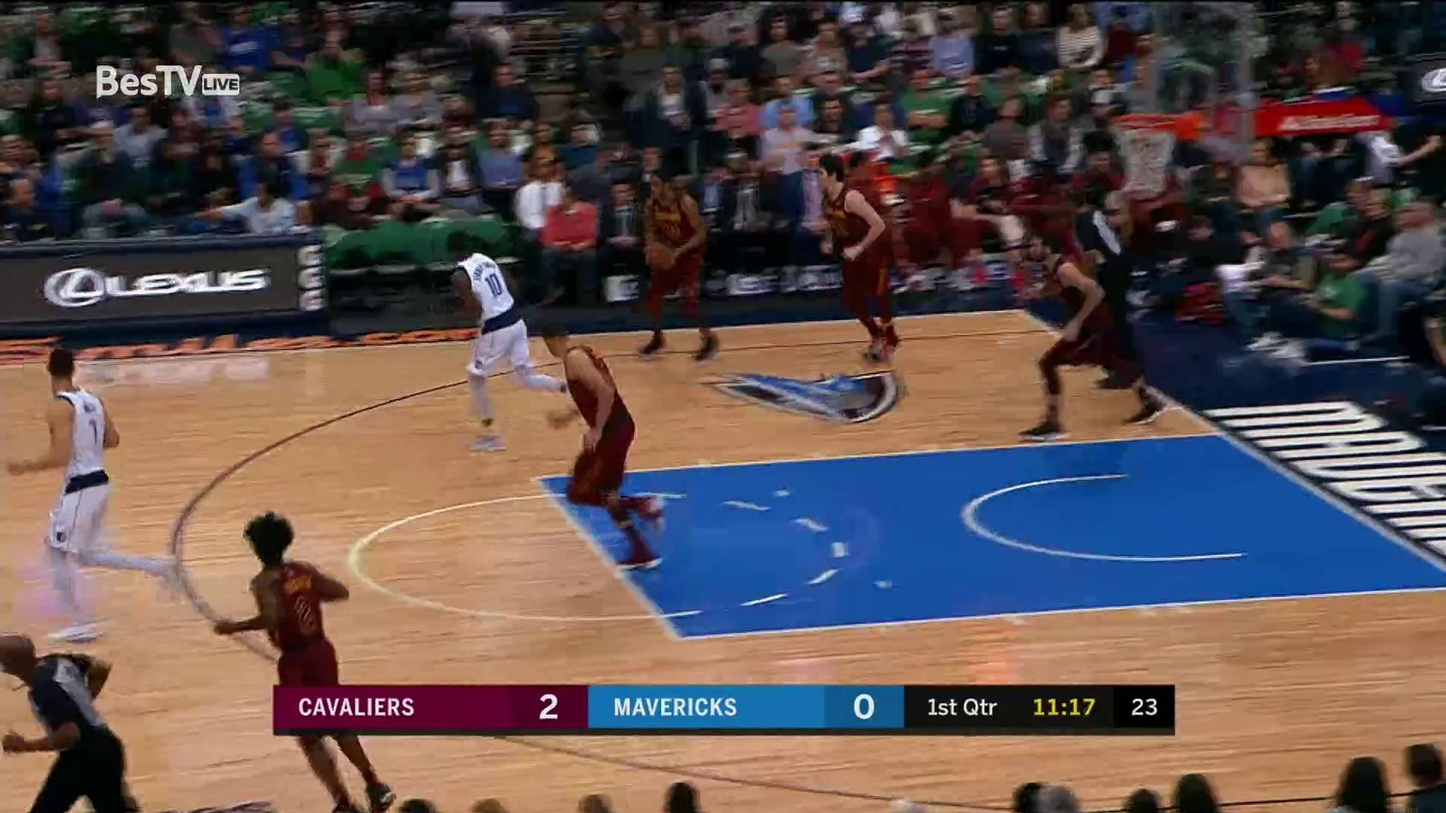basketball: (640, 238, 680, 276)
